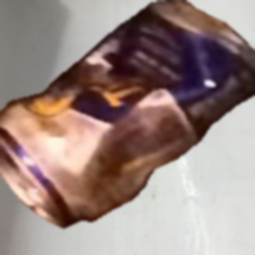can_s: (3, 1, 255, 231)
